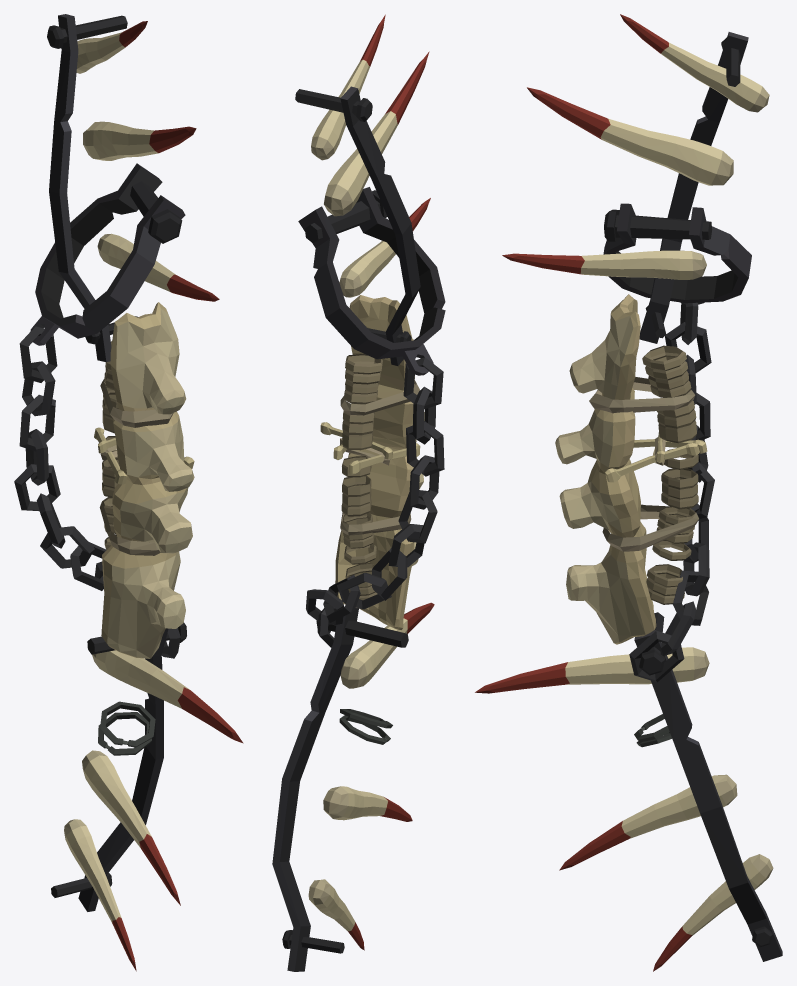
Rendered from mediumBowFearlessHandle.glb.
The picture shows the model from 3 angles, left to right: view 1: azimuth 30°, elevation 25°; view 2: azimuth 150°, elevation 25°; view 3: azimuth 270°, elevation 25°; orthographic projection. The views are drawn at different scales.
Parts seen in each view (by area): view 1: mediumBowFearlessHandle; view 2: mediumBowFearlessHandle; view 3: mediumBowFearlessHandle.
Boxes of the visible parts, <box> form: mediumBowFearlessHandle: <box>14,14,243,971</box>; mediumBowFearlessHandle: <box>272,14,445,971</box>; mediumBowFearlessHandle: <box>475,14,782,971</box>.
Bounding box in the file's own units: 0.2035 × 1.24 × 0.3619.
